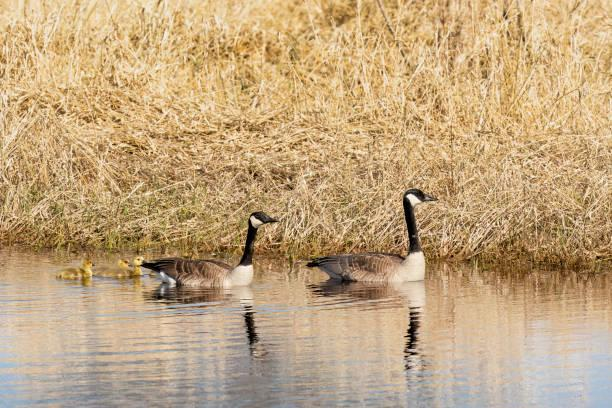Canadian-Goose: (307, 185, 438, 283), (150, 209, 274, 292), (104, 256, 145, 278), (56, 260, 93, 279)
